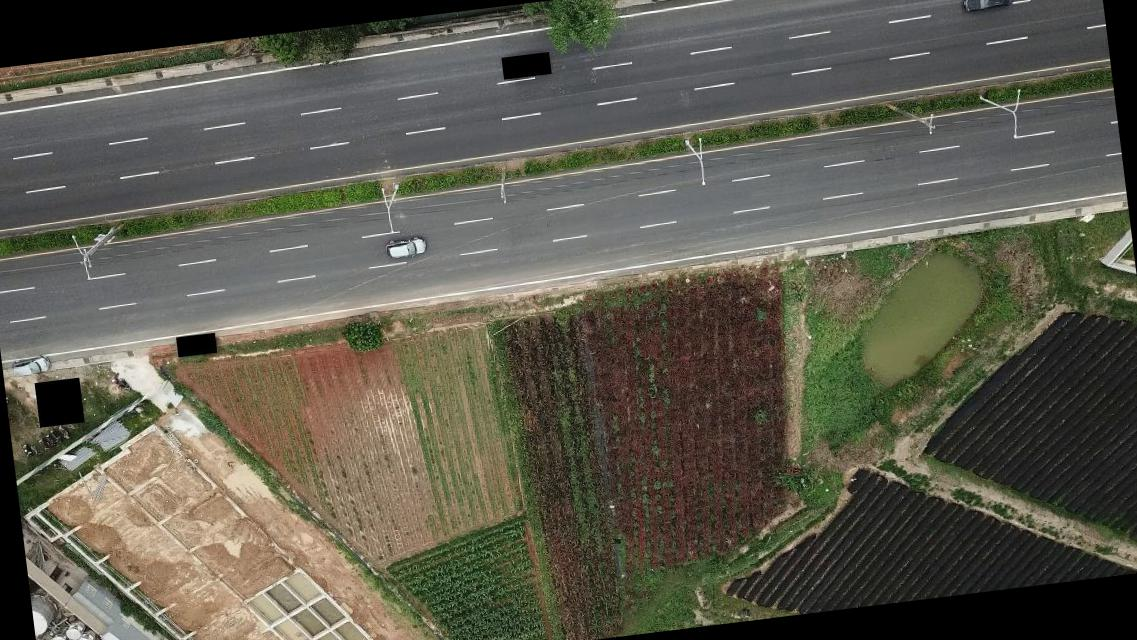vehicle: (383, 233, 426, 261), (9, 354, 50, 379), (960, 0, 1019, 15)
